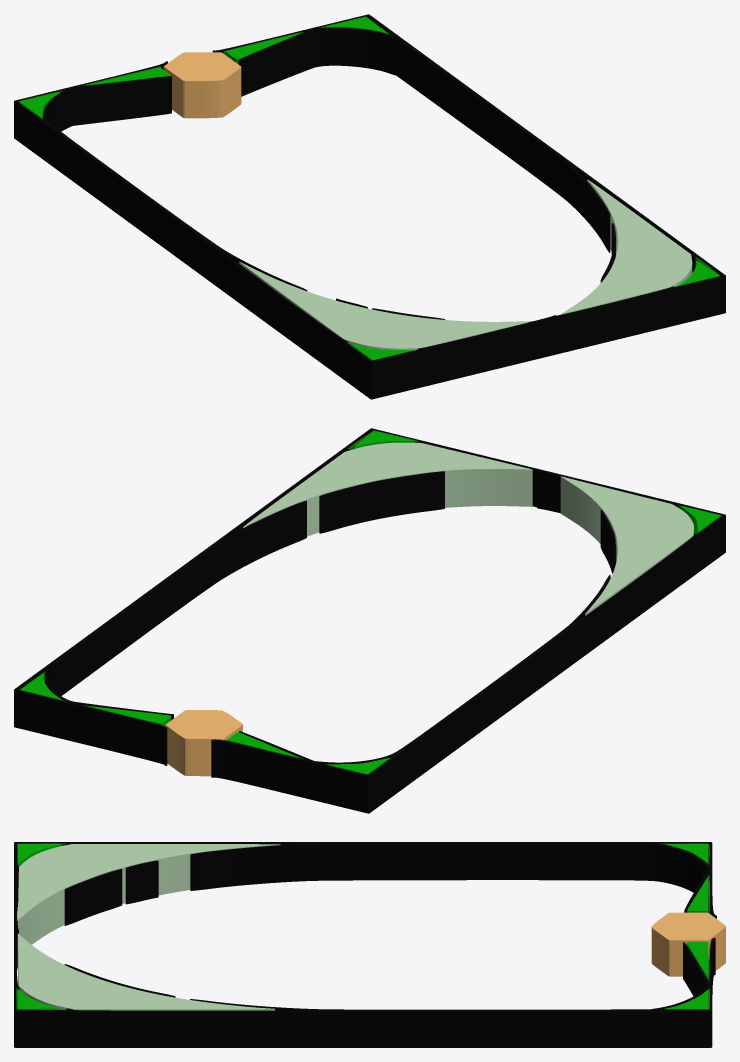
3 views of the same model, one above another, from view 1: azimuth 30°, elevation 25°; view 2: azimuth 150°, elevation 25°; view 3: azimuth 270°, elevation 25° (orthographic). The views are drawn at different scales.
Parts seen in each view (by area): view 1: imagetostl_mesh4, imagetostl_mesh1, imagetostl_mesh3, imagetostl_mesh5, imagetostl_mesh24, imagetostl_mesh25; view 2: imagetostl_mesh4, imagetostl_mesh1, imagetostl_mesh3, imagetostl_mesh5, imagetostl_mesh6, imagetostl_mesh2, imagetostl_mesh0, imagetostl_mesh24, imagetostl_mesh25; view 3: imagetostl_mesh4, imagetostl_mesh1, imagetostl_mesh3, imagetostl_mesh5, imagetostl_mesh0, imagetostl_mesh8, imagetostl_mesh24, imagetostl_mesh25, imagetostl_mesh10, imagetostl_mesh2, imagetostl_mesh13, imagetostl_mesh15 (+3 smaller).
Boxes of the visible parts, left/top/right/bottom form: imagetostl_mesh4: left=14, top=16, right=725, bottom=399; imagetostl_mesh1: left=240, top=262, right=532, bottom=348; imagetostl_mesh3: left=561, top=179, right=692, bottom=314; imagetostl_mesh5: left=14, top=14, right=725, bottom=362; imagetostl_mesh24: left=163, top=67, right=241, bottom=118; imagetostl_mesh25: left=164, top=52, right=240, bottom=80; imagetostl_mesh4: left=14, top=430, right=725, bottom=813; imagetostl_mesh1: left=561, top=476, right=693, bottom=613; imagetostl_mesh3: left=243, top=442, right=532, bottom=526; imagetostl_mesh5: left=14, top=428, right=725, bottom=776; imagetostl_mesh6: left=319, top=471, right=444, bottom=533; imagetostl_mesh2: left=243, top=469, right=532, bottom=536; imagetostl_mesh0: left=560, top=477, right=693, bottom=615; imagetostl_mesh24: left=165, top=725, right=242, bottom=776; imagetostl_mesh25: left=165, top=710, right=242, bottom=738; imagetostl_mesh4: left=14, top=843, right=716, bottom=1047; imagetostl_mesh1: left=17, top=844, right=278, bottom=919; imagetostl_mesh3: left=17, top=933, right=274, bottom=1009; imagetostl_mesh5: left=14, top=842, right=716, bottom=1011; imagetostl_mesh0: left=17, top=844, right=280, bottom=944; imagetostl_mesh8: left=64, top=869, right=122, bottom=925; imagetostl_mesh24: left=651, top=927, right=725, bottom=976; imagetostl_mesh25: left=652, top=912, right=725, bottom=940; imagetostl_mesh10: left=125, top=861, right=158, bottom=904; imagetostl_mesh2: left=17, top=935, right=274, bottom=1010; imagetostl_mesh13: left=687, top=942, right=708, bottom=976; imagetostl_mesh15: left=687, top=877, right=708, bottom=910.
Bounding box in the file's own units: 9999 × 1000 × 17766.
